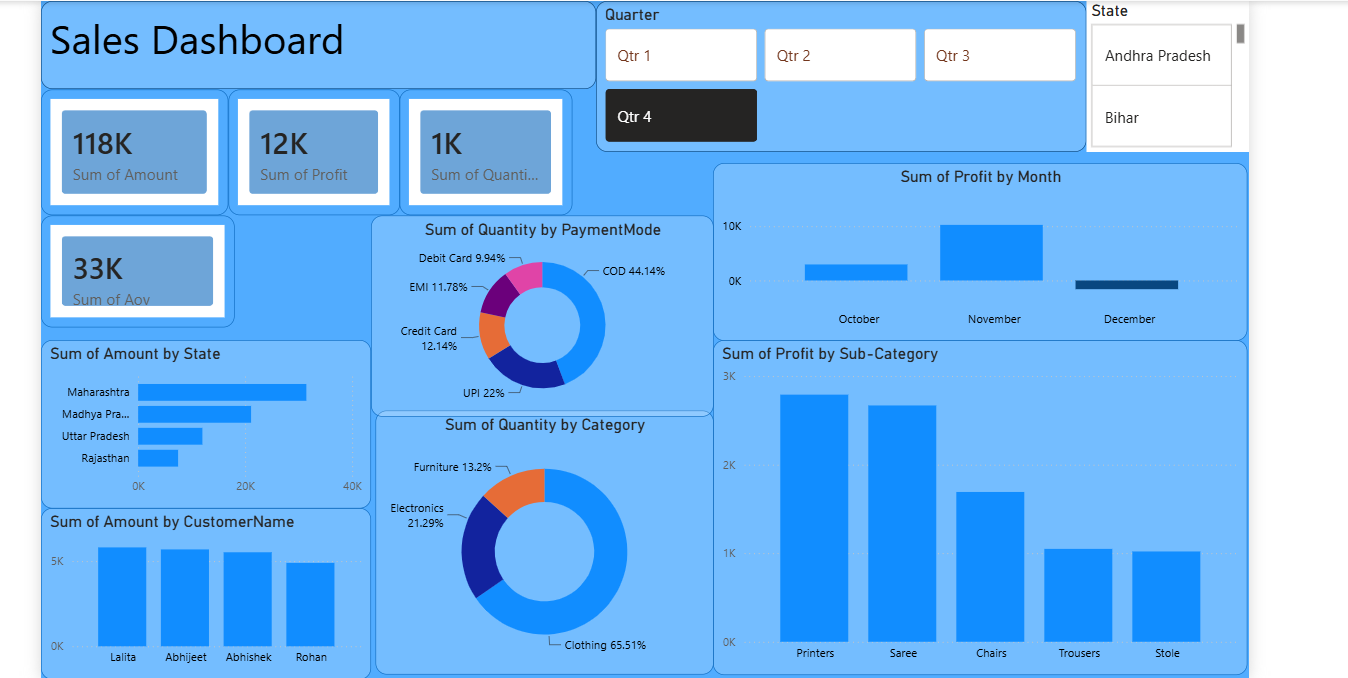

The dashboard page shown, as its layout file describes it:
{"tool":"powerbi","page":{"name":"Page 1","canvas":[1280,720],"ordinal":0},"visuals":[{"type":"columnChart","fields":{"Y":["Sum(Details.Profit)"],"Category":["Orders.Order Date.Variation.Date Hierarchy.Month"]},"box":[713.3,171.7,566.7,188.3],"z":0},{"type":"columnChart","fields":{"Y":["Sum(Details.Profit)"],"Category":["Details.Sub-Category"]},"box":[713.3,360,566.7,355],"z":1000},{"type":"donutChart","fields":{"Y":["Sum(Details.Quantity)"],"Category":["Details.Category"]},"box":[355,435,358.3,280],"z":2000},{"type":"donutChart","fields":{"Y":["Sum(Details.Quantity)"],"Category":["Details.PaymentMode"]},"box":[350,226.7,363.3,213.3],"z":3000},{"type":"cardVisual","fields":{"Data":["Sum(Details.Amount)"]},"box":[0,93.3,198.3,133.3],"z":4000},{"type":"cardVisual","fields":{"Data":["Sum(Details.Profit)"]},"box":[198.3,93.3,181.7,133.3],"z":5000},{"type":"cardVisual","fields":{"Data":["Sum(Details.Quantity)"]},"box":[380,93.3,183.3,133.3],"z":6000},{"type":"cardVisual","fields":{"Data":["Sum(Details.Aov)"]},"box":[0,226.7,205,118.3],"z":7000},{"type":"columnChart","fields":{"Category":["Orders.CustomerName"],"Y":["Sum(Details.Amount)"]},"box":[0,538.3,350,181.7],"z":8000},{"type":"barChart","fields":{"Category":["Orders.State"],"Y":["Sum(Details.Amount)"]},"box":[0,360,350,178.3],"z":9000},{"type":"textbox","box":[0,0,588.3,93.3],"z":10000},{"type":"advancedSlicerVisual","fields":{"Values":["Orders.Order Date.Variation.Date Hierarchy.Quarter"]},"box":[588.3,0,520,160],"z":11000},{"type":"advancedSlicerVisual","fields":{"Values":["Orders.State"]},"box":[1108,0,172,160],"z":12000}]}

Visuals, with their boxes on the page's 1280x720 design canvas (x1, y1, x2, y2). These are canvas units, not pixel positions in the 1348x678 screenshot, which may show the page scaled, cropped or inside an application window:
columnChart - Sum(Details.Profit) x Orders.Order Date.Variation.Date Hierarchy.Month: [x1=713, y1=172, x2=1280, y2=360]
columnChart - Sum(Details.Profit) x Details.Sub-Category: [x1=713, y1=360, x2=1280, y2=715]
donutChart - Sum(Details.Quantity) x Details.Category: [x1=355, y1=435, x2=713, y2=715]
donutChart - Sum(Details.Quantity) x Details.PaymentMode: [x1=350, y1=227, x2=713, y2=440]
cardVisual - Sum(Details.Amount): [x1=0, y1=93, x2=198, y2=227]
cardVisual - Sum(Details.Profit): [x1=198, y1=93, x2=380, y2=227]
cardVisual - Sum(Details.Quantity): [x1=380, y1=93, x2=563, y2=227]
cardVisual - Sum(Details.Aov): [x1=0, y1=227, x2=205, y2=345]
columnChart - Orders.CustomerName x Sum(Details.Amount): [x1=0, y1=538, x2=350, y2=720]
barChart - Orders.State x Sum(Details.Amount): [x1=0, y1=360, x2=350, y2=538]
textbox: [x1=0, y1=0, x2=588, y2=93]
advancedSlicerVisual - Orders.Order Date.Variation.Date Hierarchy.Quarter: [x1=588, y1=0, x2=1108, y2=160]
advancedSlicerVisual - Orders.State: [x1=1108, y1=0, x2=1280, y2=160]
